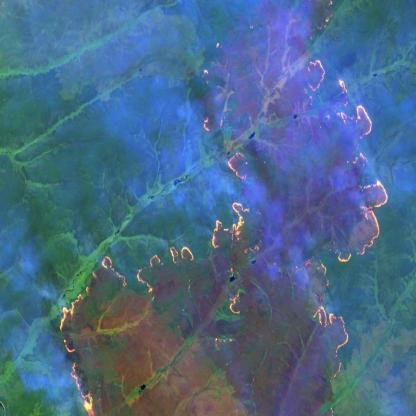fire: (56, 0, 391, 416)
